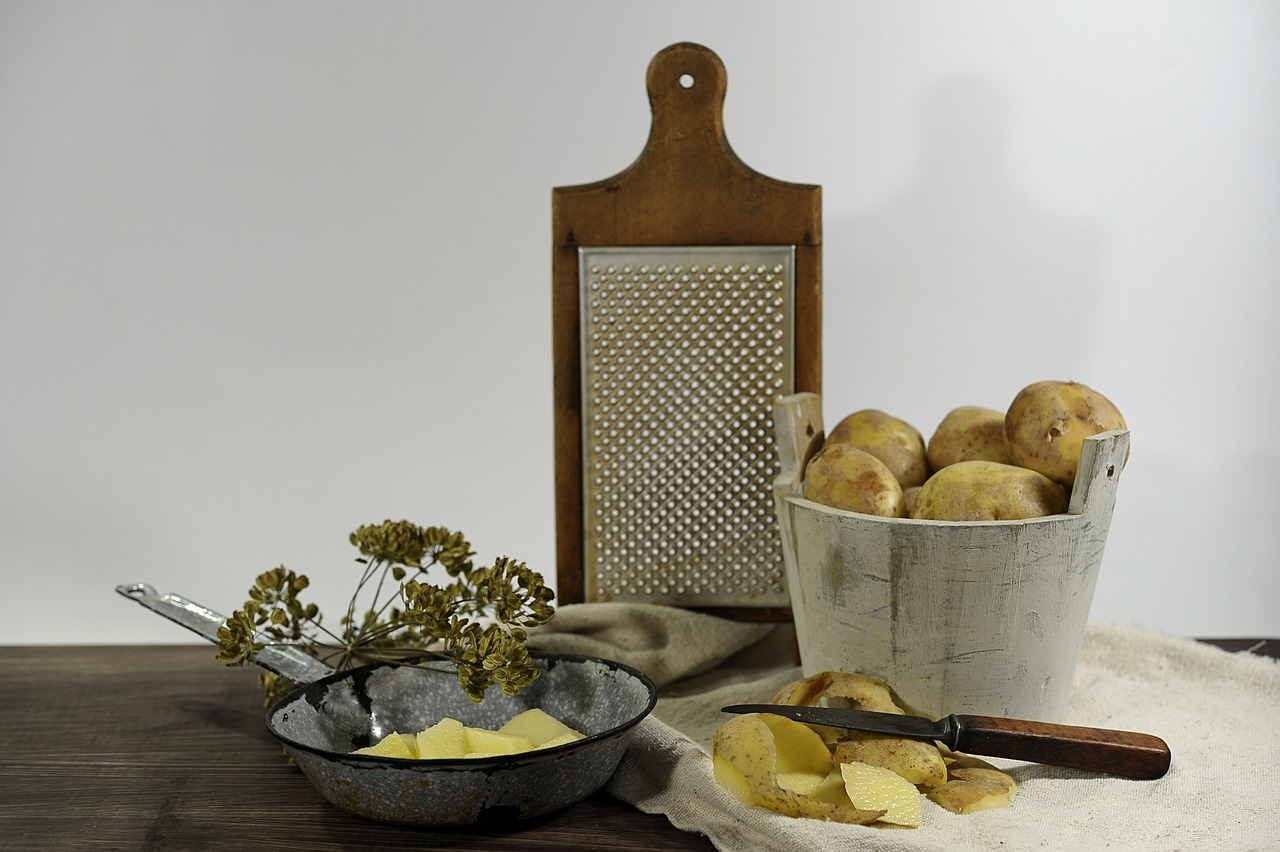knife: (725, 693, 1189, 788)
